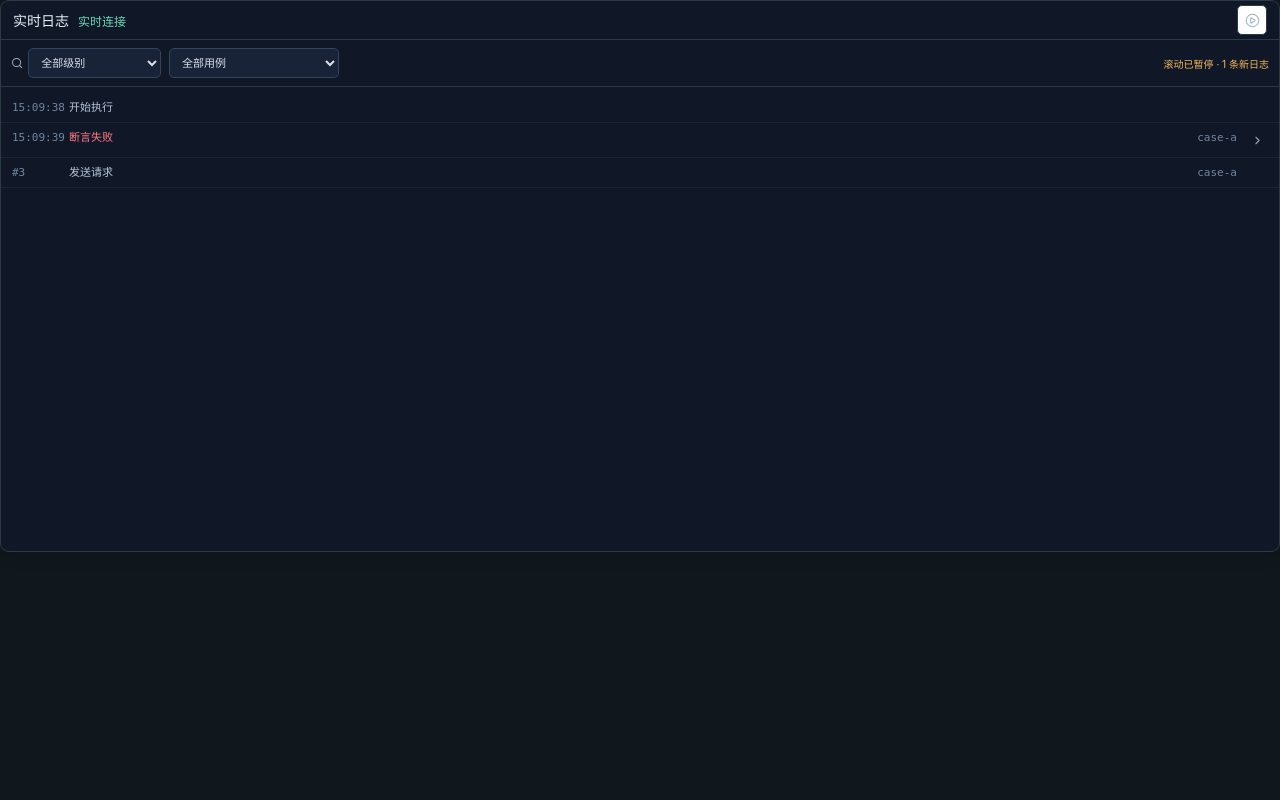
ExecutionLog › pauses following when the reader scrolls away and counts unseen logs
(page scrolled)
What coordinates should you click on to do the following:
click the button with test id "log-follow"
I would click on:
 (1252, 20)
Its box is left=1237, top=5, right=1267, bottom=35.
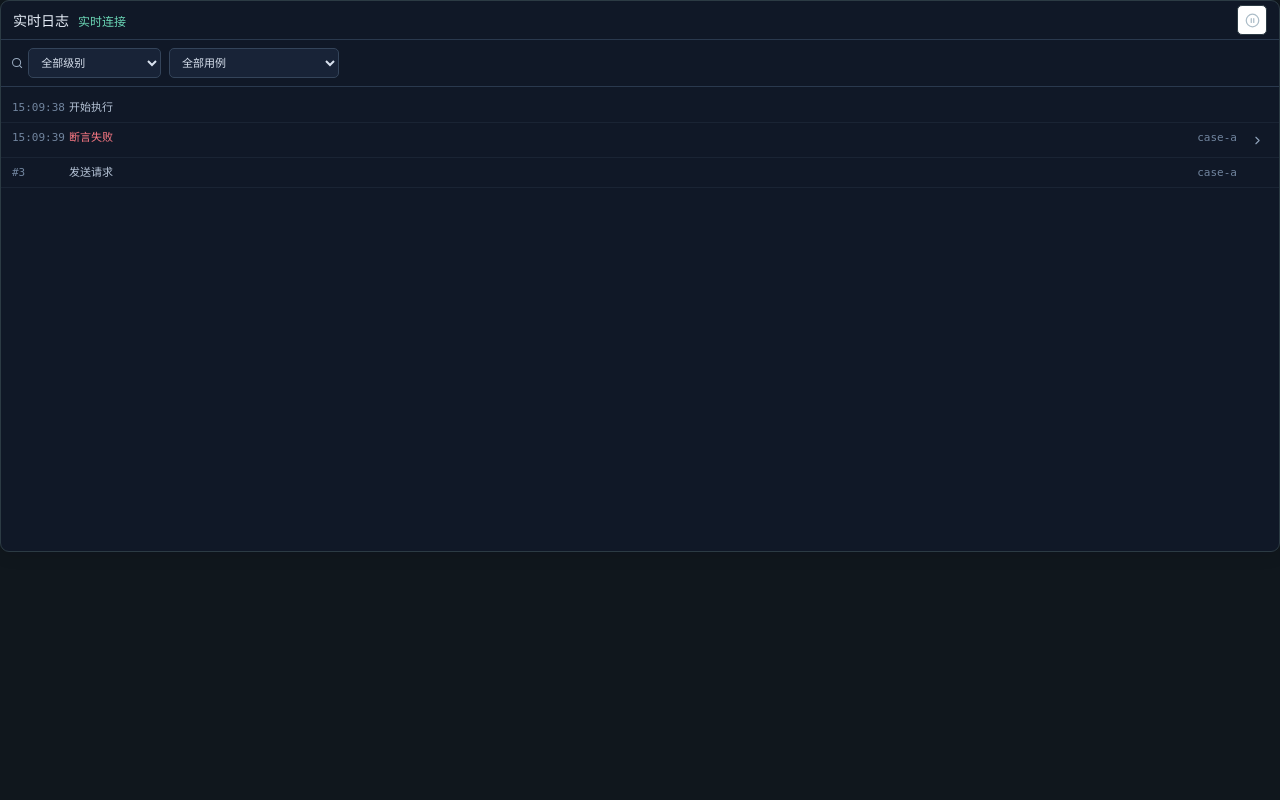
Expected: the text "1 条新日志" is gone
